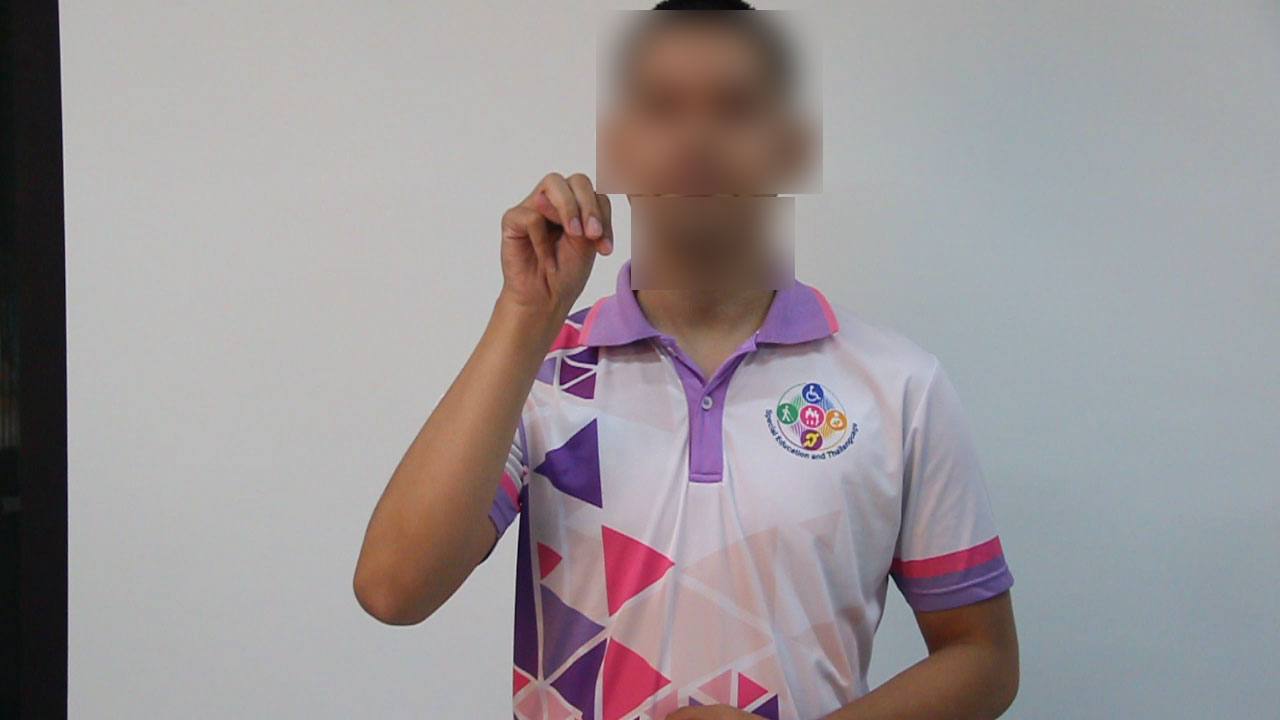mor: (493, 158, 616, 322)
